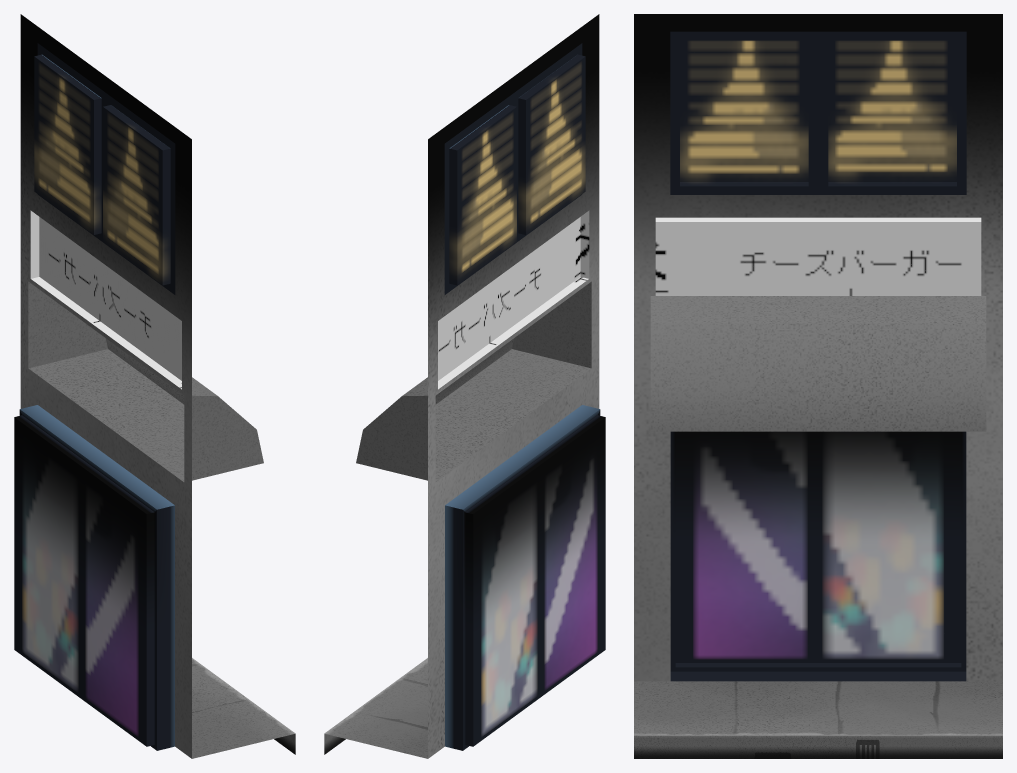
File: StorefrontA.FBX
3 renders of one model, left to right at view 1: azimuth 30°, elevation 25°; view 2: azimuth 150°, elevation 25°; view 3: azimuth 270°, elevation 25°, orthographic. The views are drawn at different scales.
Parts seen in each view (by area): view 1: StorefrontA; view 2: StorefrontA; view 3: StorefrontA.
Boxes of the visible parts, bbox=[...] form: StorefrontA: bbox=[14, 14, 295, 758]; StorefrontA: bbox=[324, 14, 605, 758]; StorefrontA: bbox=[634, 14, 1002, 758].
Size of the model in its own units: 0.6557 by 1.5 by 3.1.
3 materials, 3 textured.
